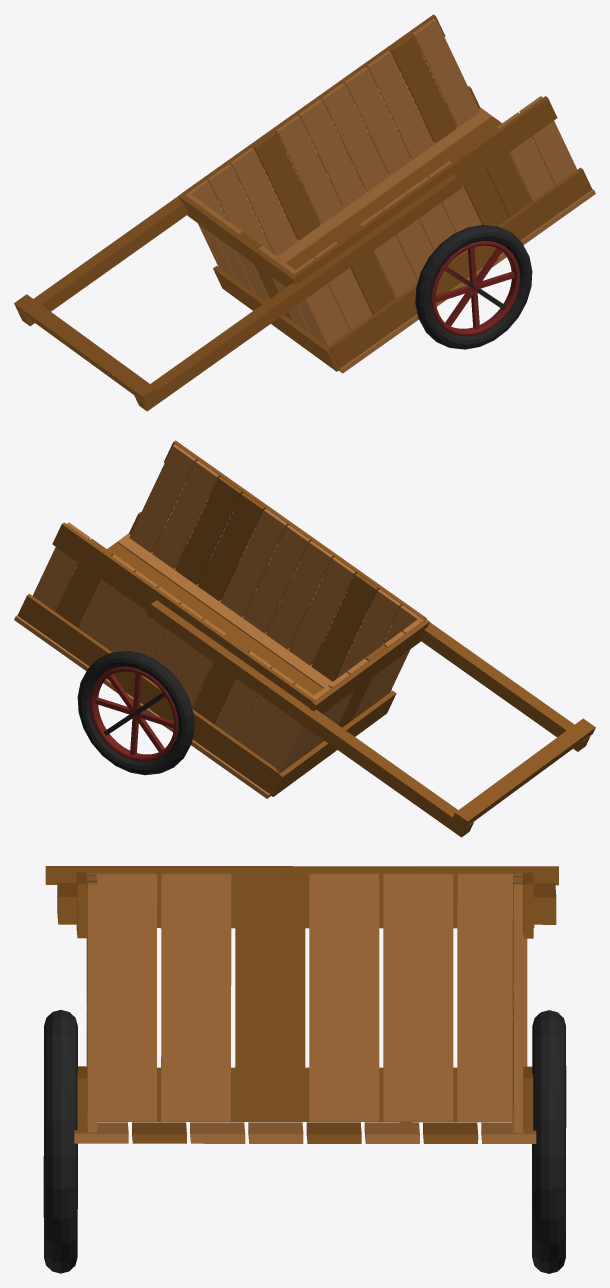
The model's file is gerobak.glb.
3 renders of one model, top to bottom at view 1: azimuth 30°, elevation 25°; view 2: azimuth 150°, elevation 25°; view 3: azimuth 270°, elevation 25°, orthographic. The views are drawn at different scales.
Parts seen in each view (by area): view 1: gerobak; view 2: gerobak; view 3: gerobak.
Part boxes in pixels (bbox=[...]): gerobak: bbox=[14, 14, 595, 411]; gerobak: bbox=[14, 440, 595, 837]; gerobak: bbox=[43, 866, 566, 1273].
Bounding box in the file's own units: 1.25 × 0.5925 × 0.6172.
